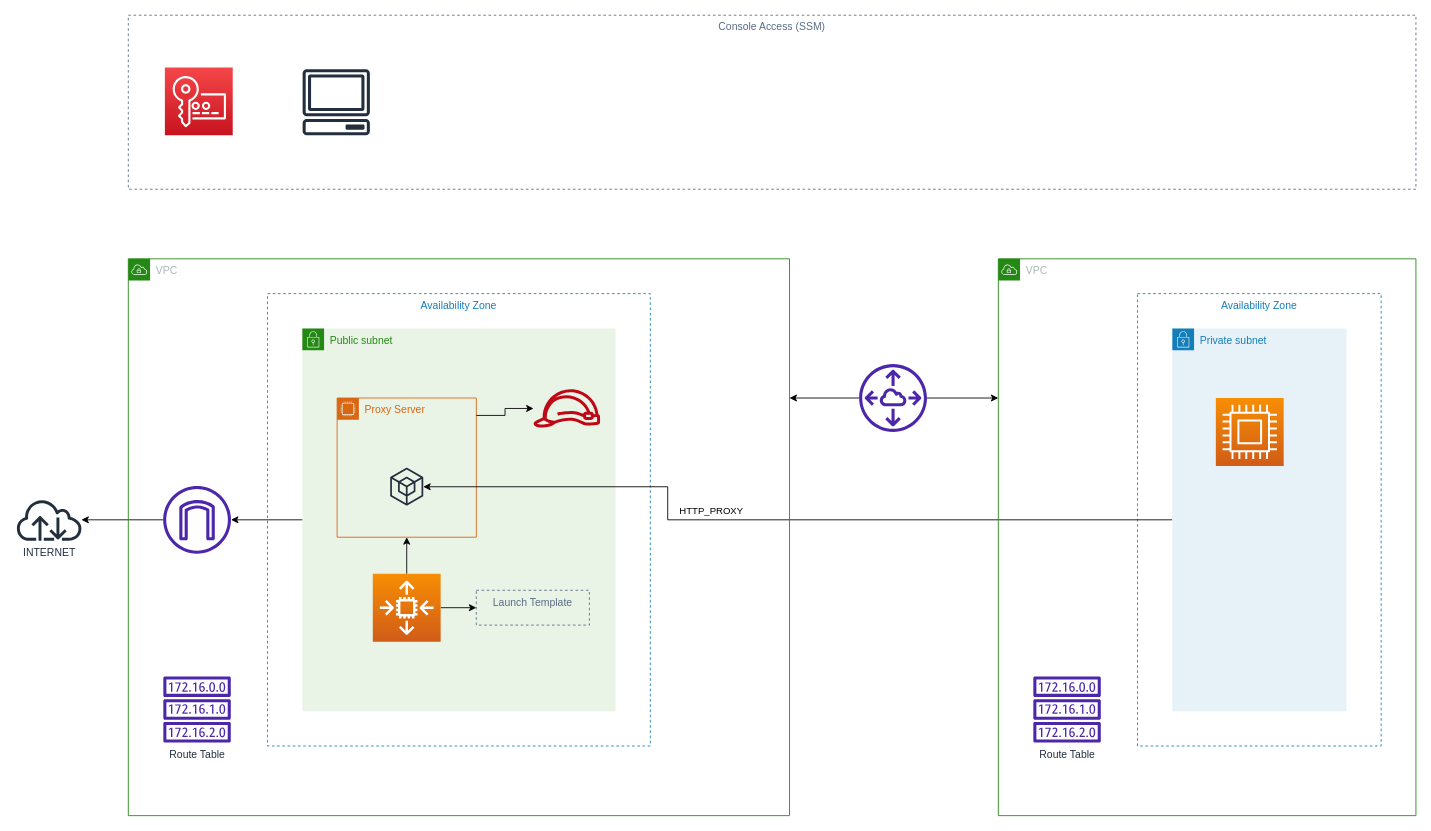
The diagram is 1431 pixels wide and 831 high, and some of its shapes have lost their labels. Here are the shapes that lost their labels. From the top down, the centre of each, then its label:
At pixel 198 101: "KMS for SSM".
At pixel 336 102: "SSM Console".
At pixel 893 398: "VPC Peering".
At pixel 1249 431: "Application Instances".
At pixel 406 486: "Squid".
At pixel 197 519: "Internet Gateway".
At pixel 406 607: "Autoscaling Group".
